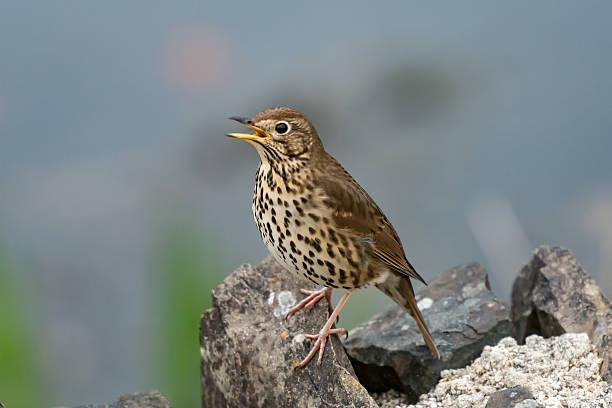bird: (226, 107, 438, 367)
